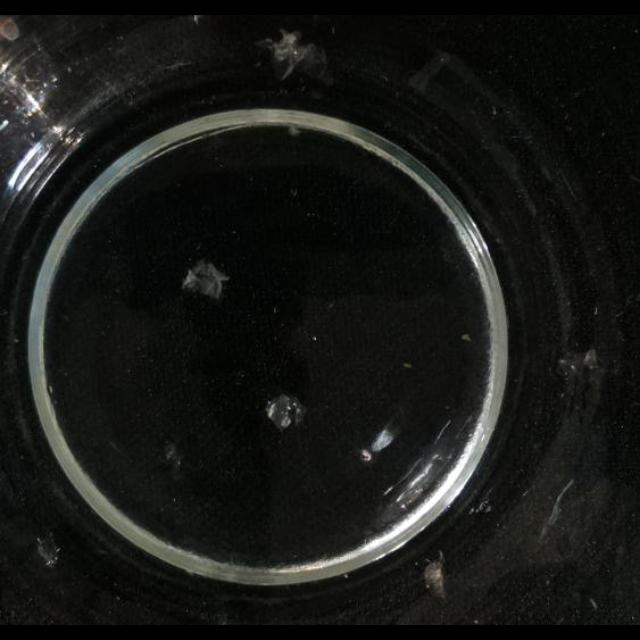Fibre: (257, 28, 323, 84), (540, 476, 576, 540), (180, 259, 230, 301), (264, 395, 304, 433), (423, 554, 447, 600), (589, 598, 599, 610)
microbeads: (35, 536, 61, 568), (467, 494, 491, 516), (462, 333, 472, 342), (593, 306, 599, 316), (491, 105, 497, 115), (273, 306, 279, 314)
